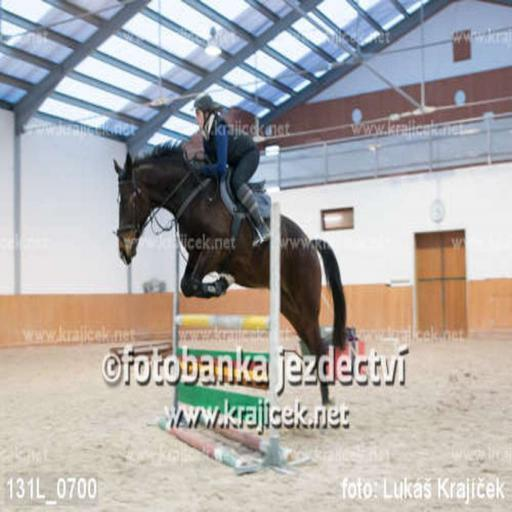horse: (114, 136, 348, 430)
